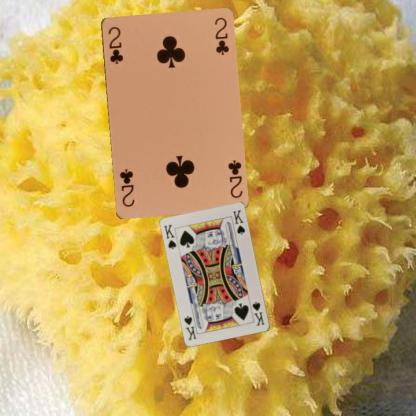2c: (225, 156, 244, 199), (105, 24, 124, 65)
Ks: (249, 299, 266, 327), (162, 222, 178, 251)
